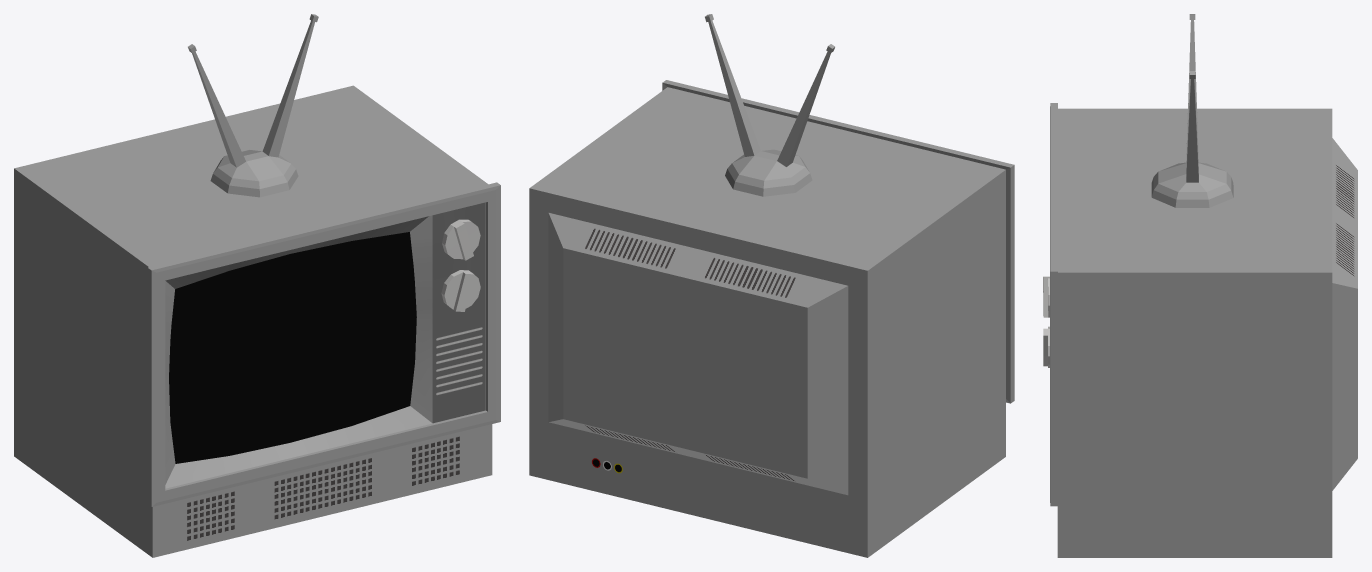
The model's file is television.fbx.
3 views of the same model, side by side, from view 1: azimuth 30°, elevation 25°; view 2: azimuth 150°, elevation 25°; view 3: azimuth 270°, elevation 25° (orthographic).
Parts seen in each view (by area): view 1: television1:television; view 2: television1:television; view 3: television1:television.
Part boxes in pixels (x1,y1,x2,y2): television1:television: (14, 14, 500, 557); television1:television: (529, 14, 1014, 557); television1:television: (1043, 14, 1357, 557).
Size of the model in its own units: 3.25 by 3.96 by 2.56.
Materials: 2 (1 with a texture image).
